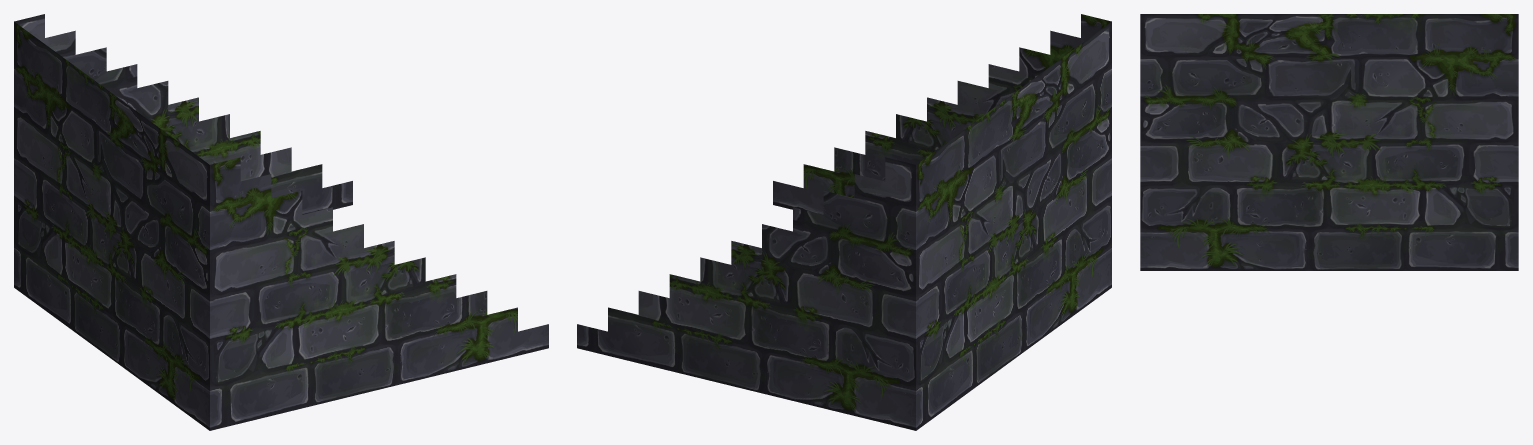
The model's file is MOD_Stairs_01_WallCover_2.fbx.
3 views of the same model, side by side, from view 1: azimuth 30°, elevation 25°; view 2: azimuth 150°, elevation 25°; view 3: azimuth 270°, elevation 25° (orthographic). The views are drawn at different scales.
Visible parts, largest first — view 1: MOD_Stairs_01_WallCover_2; view 2: MOD_Stairs_01_WallCover_2; view 3: MOD_Stairs_01_WallCover_2.
Boxes of the visible parts, bbox=[...] form: MOD_Stairs_01_WallCover_2: bbox=[14, 14, 548, 430]; MOD_Stairs_01_WallCover_2: bbox=[577, 14, 1111, 430]; MOD_Stairs_01_WallCover_2: bbox=[1140, 14, 1518, 270].
Size of what is drawn, in the model's own units: 400 by 300 by 400.
